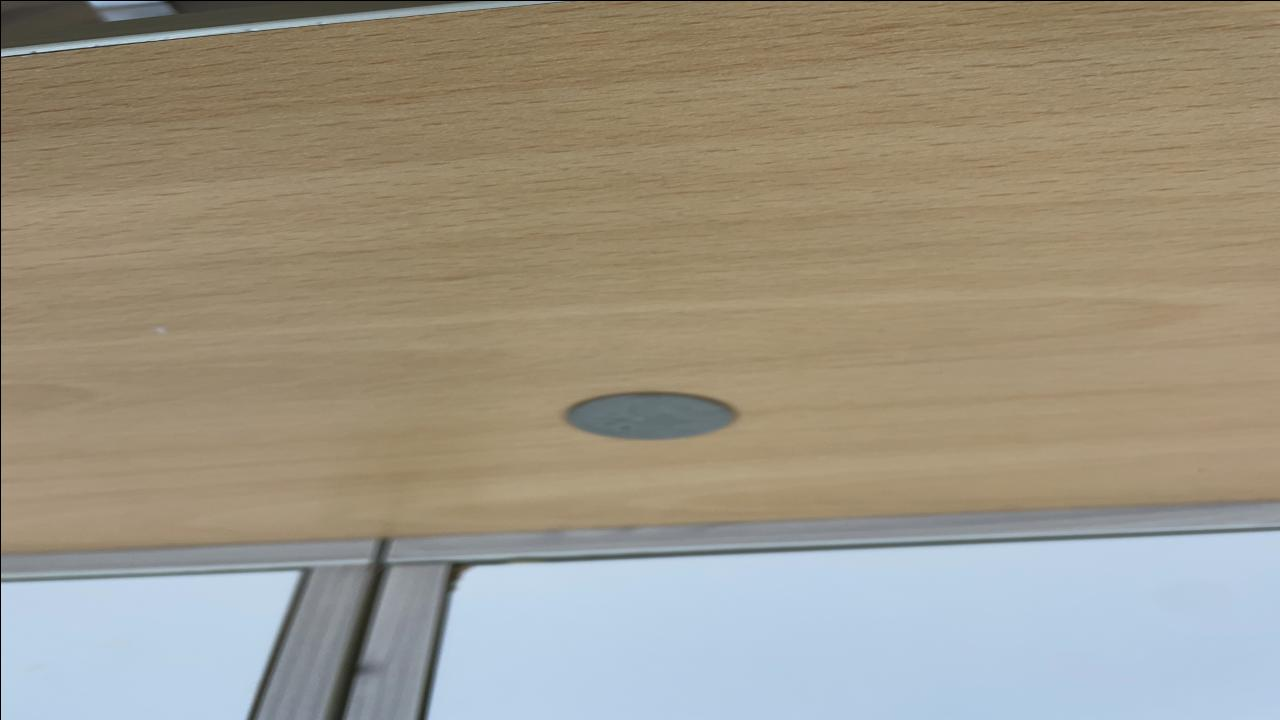coin: (558, 389, 744, 443)
